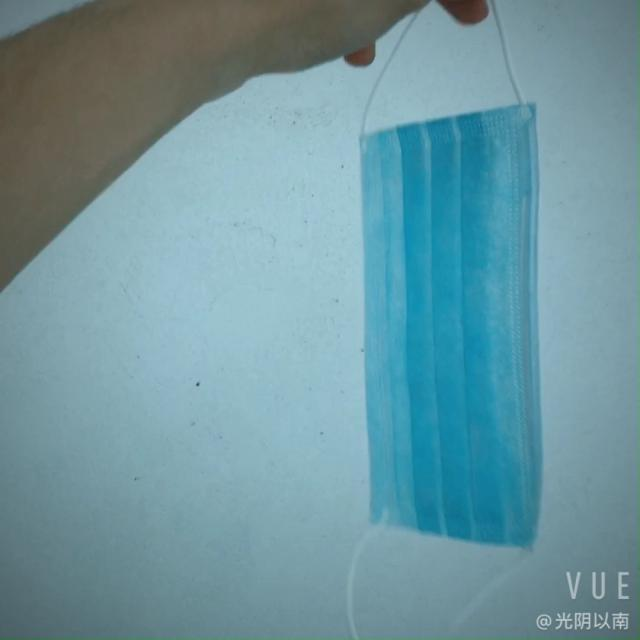face mask: (376, 80, 548, 530)
